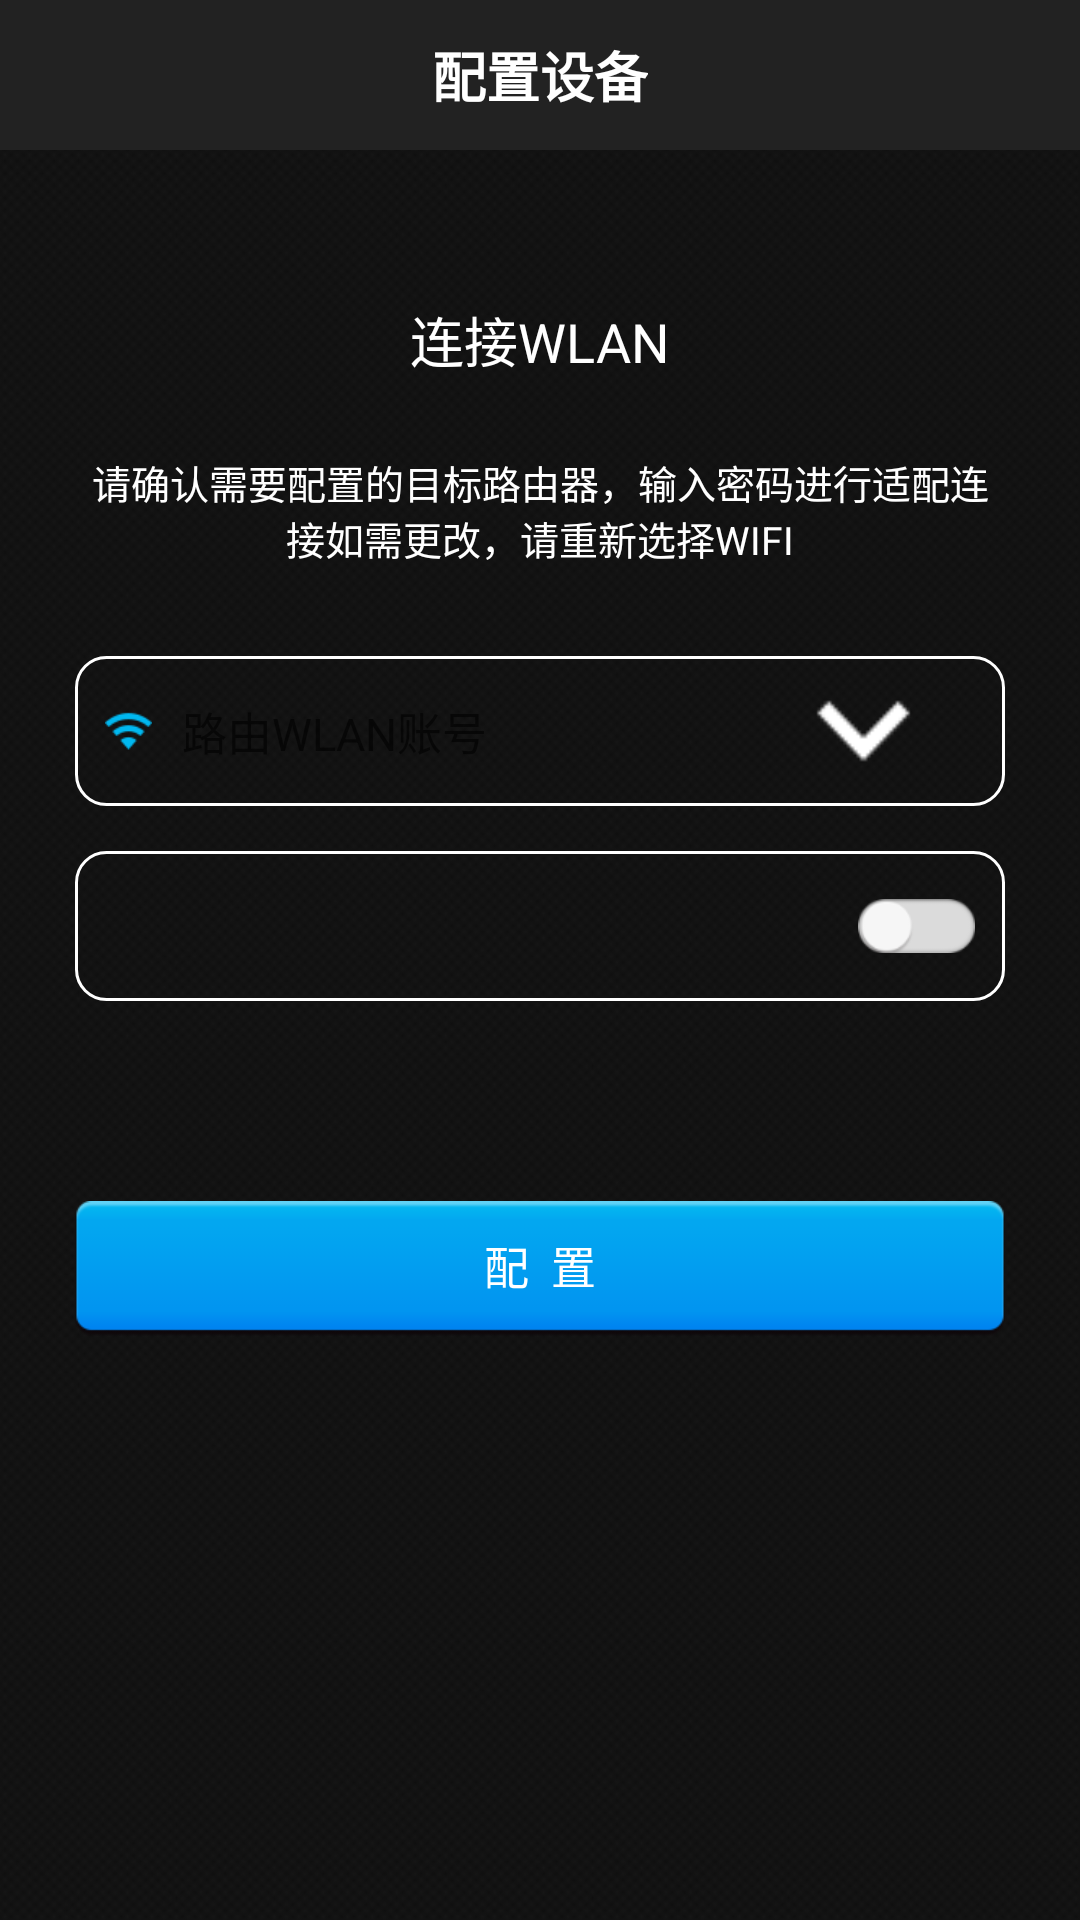

Icons on this 1080px x 1920px Android screen, each with its box as rect(x1, y1, x2, y2):
arrow down: rect(817, 700, 910, 761)
ssid: rect(105, 712, 152, 750)
